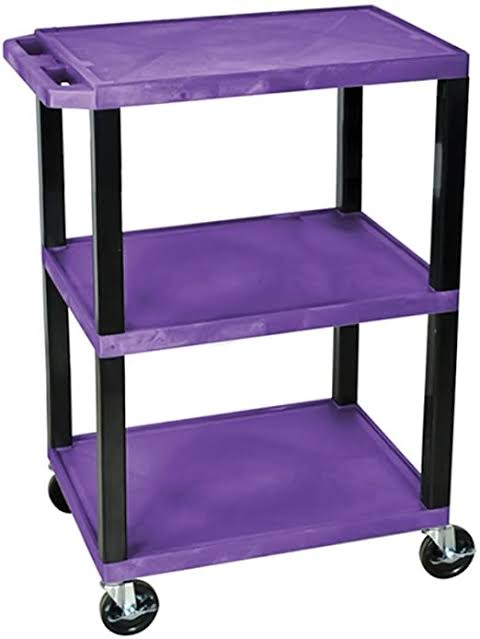Carts: (3, 4, 475, 639)
